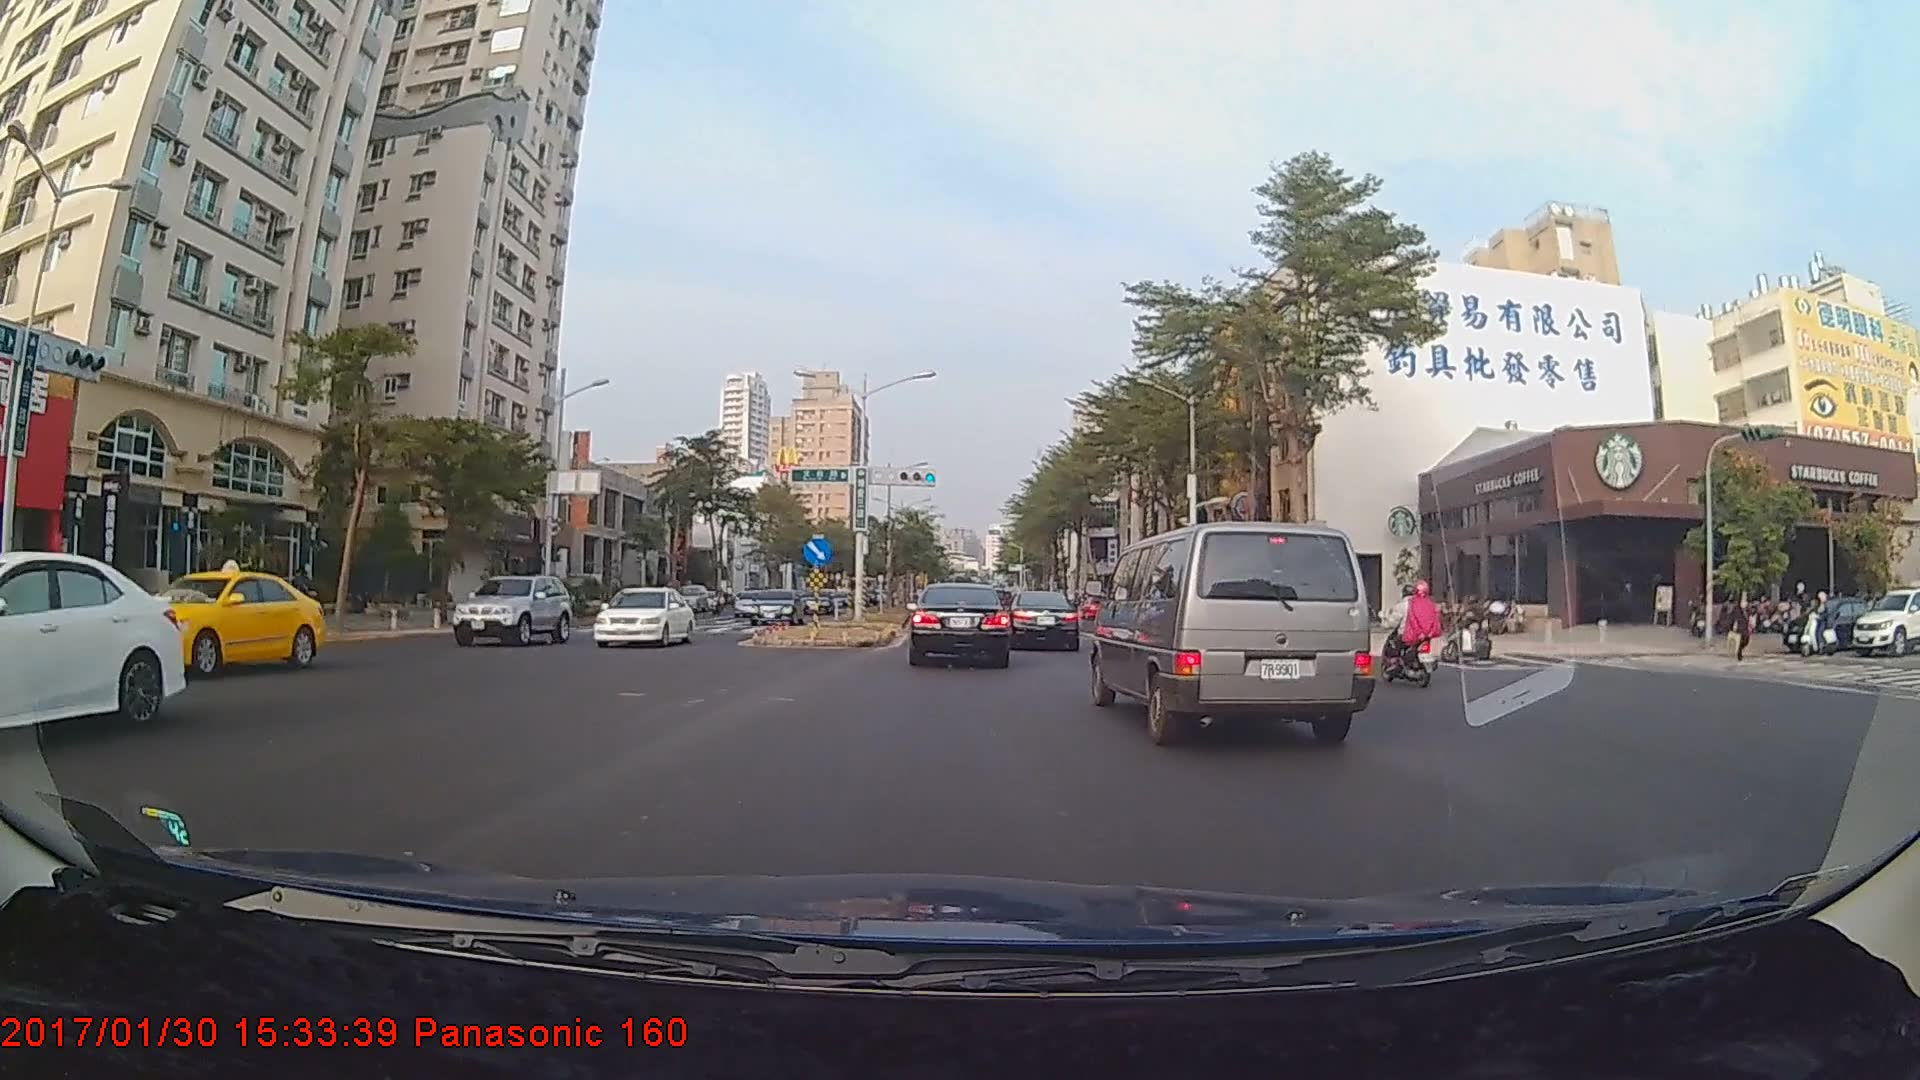pedestrian: (1733, 587, 1753, 657)
rider: (1377, 571, 1451, 679), (1797, 586, 1842, 657)
vehicle: (1097, 514, 1369, 747), (0, 559, 180, 752), (107, 569, 321, 670), (444, 567, 564, 643), (909, 581, 1010, 667), (589, 584, 696, 646), (1842, 584, 1912, 658), (1009, 588, 1079, 650), (745, 585, 806, 623)
